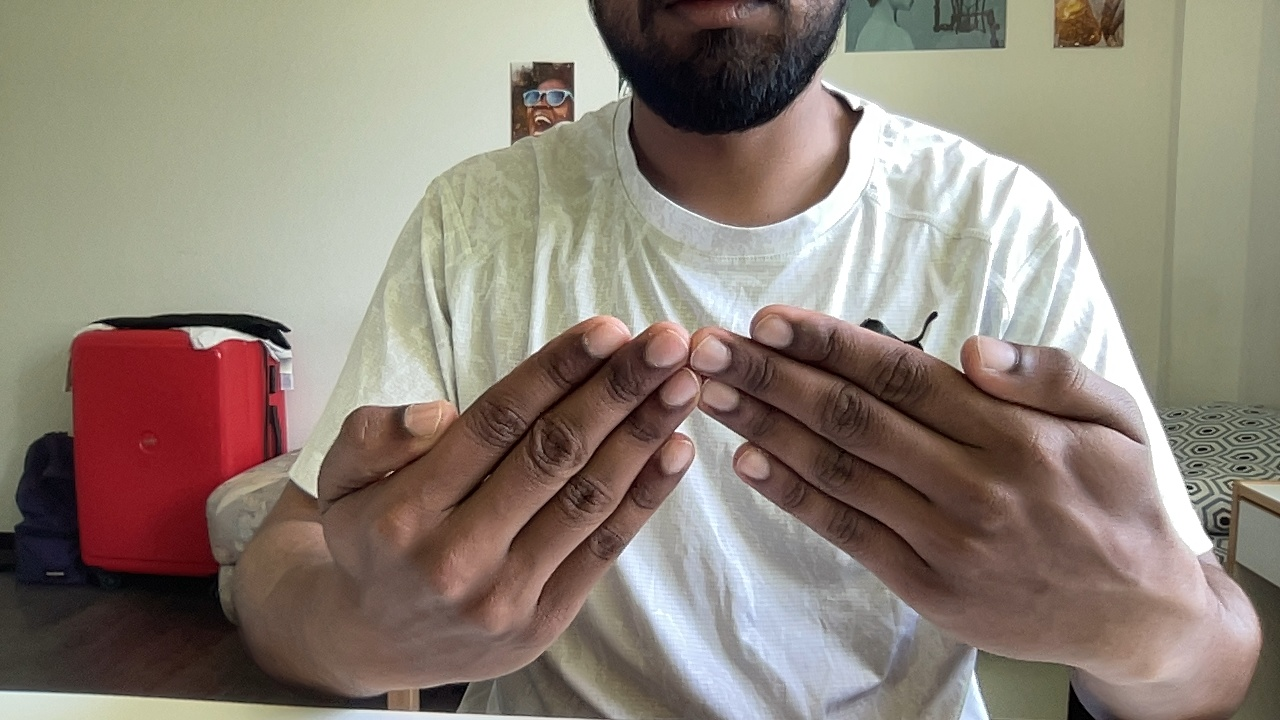ThankYou: (313, 300, 1149, 685)
